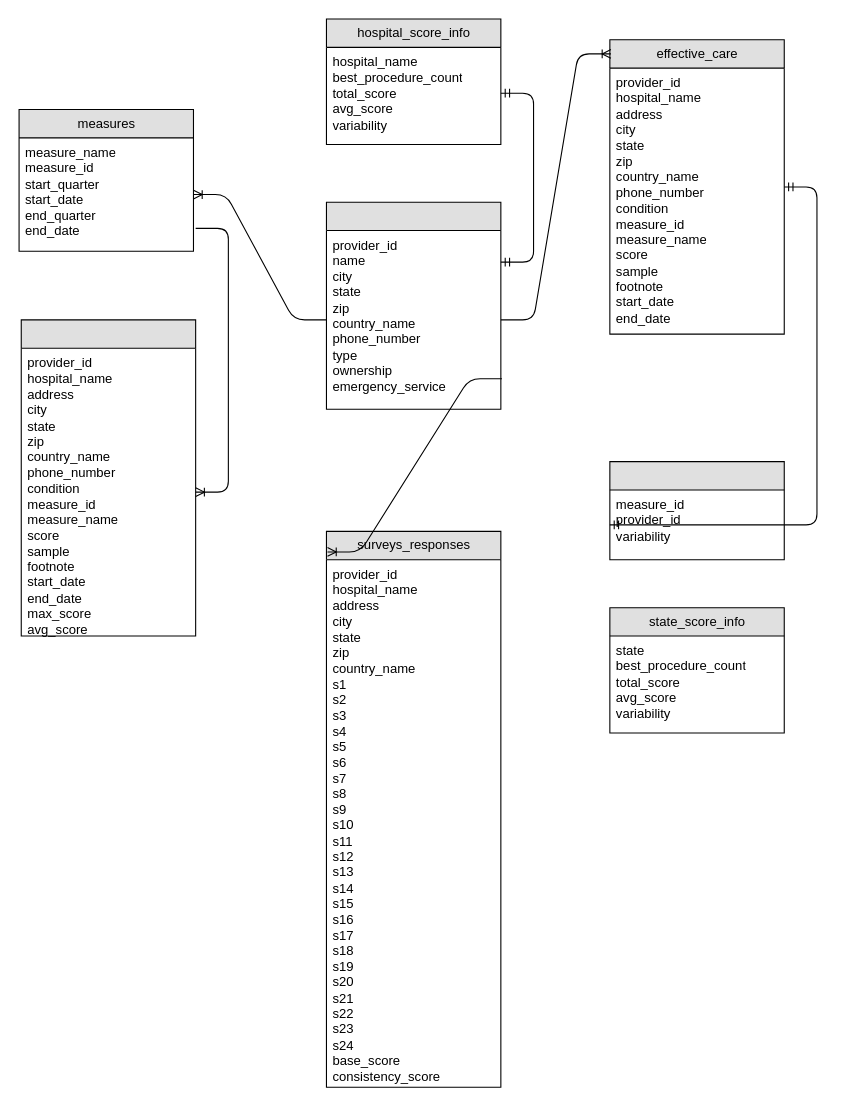
This 846x1110 diagram has some shape labels left out. The shapes that lost their labels are listed below. From the top down, each one's box as (x1, y1, x2, y2) in pixels, then its label:
(325, 201, 501, 409): hospitals
(20, 319, 196, 636): procedure_max_score
(609, 461, 784, 560): hospital_variability
